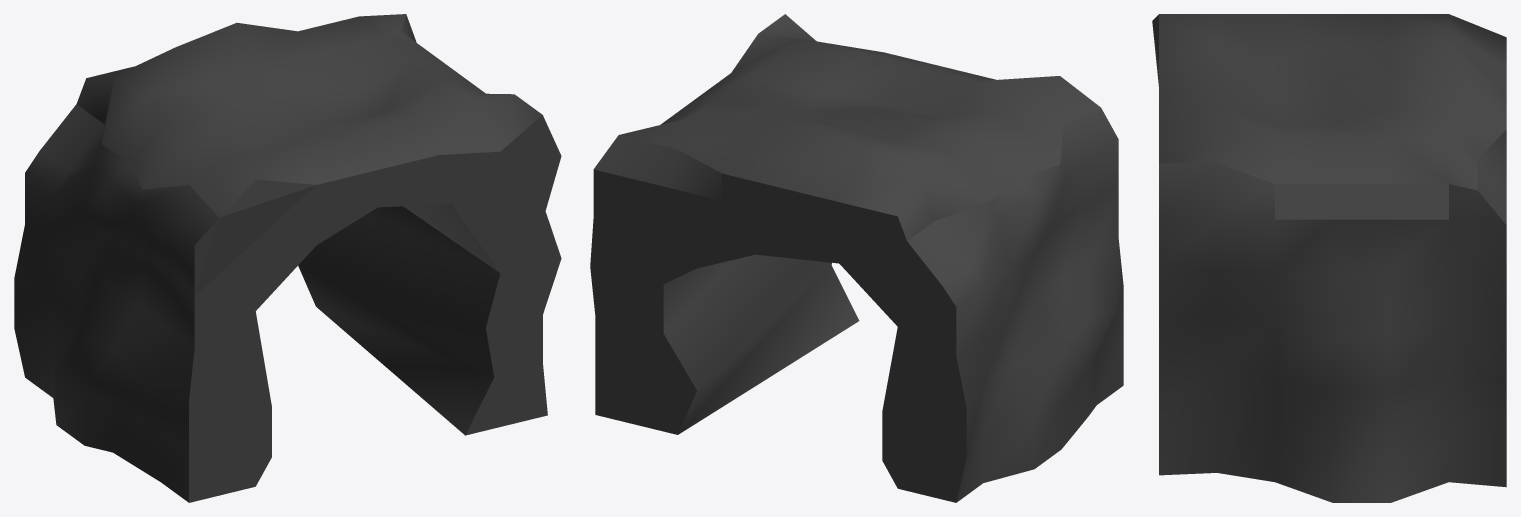
The model's file is Tunnel 1.fbx.
3 renders of one model, left to right at view 1: azimuth 30°, elevation 25°; view 2: azimuth 150°, elevation 25°; view 3: azimuth 270°, elevation 25°, orthographic. The views are drawn at different scales.
Visible parts, largest first — view 1: Tunnel 1; view 2: Tunnel 1; view 3: Tunnel 1.
Boxes of the visible parts, <box> form: Tunnel 1: <box>14,14,561,502</box>; Tunnel 1: <box>590,14,1123,502</box>; Tunnel 1: <box>1152,14,1506,502</box>.
Size of the model in its own units: 59.09 by 43.06 by 40.79.
1 material, 1 textured.
